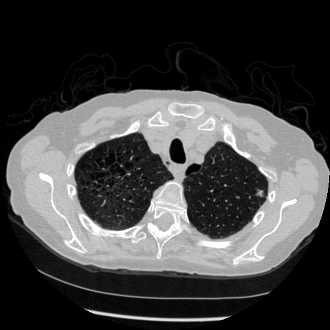nodule: (257, 190, 263, 196)
